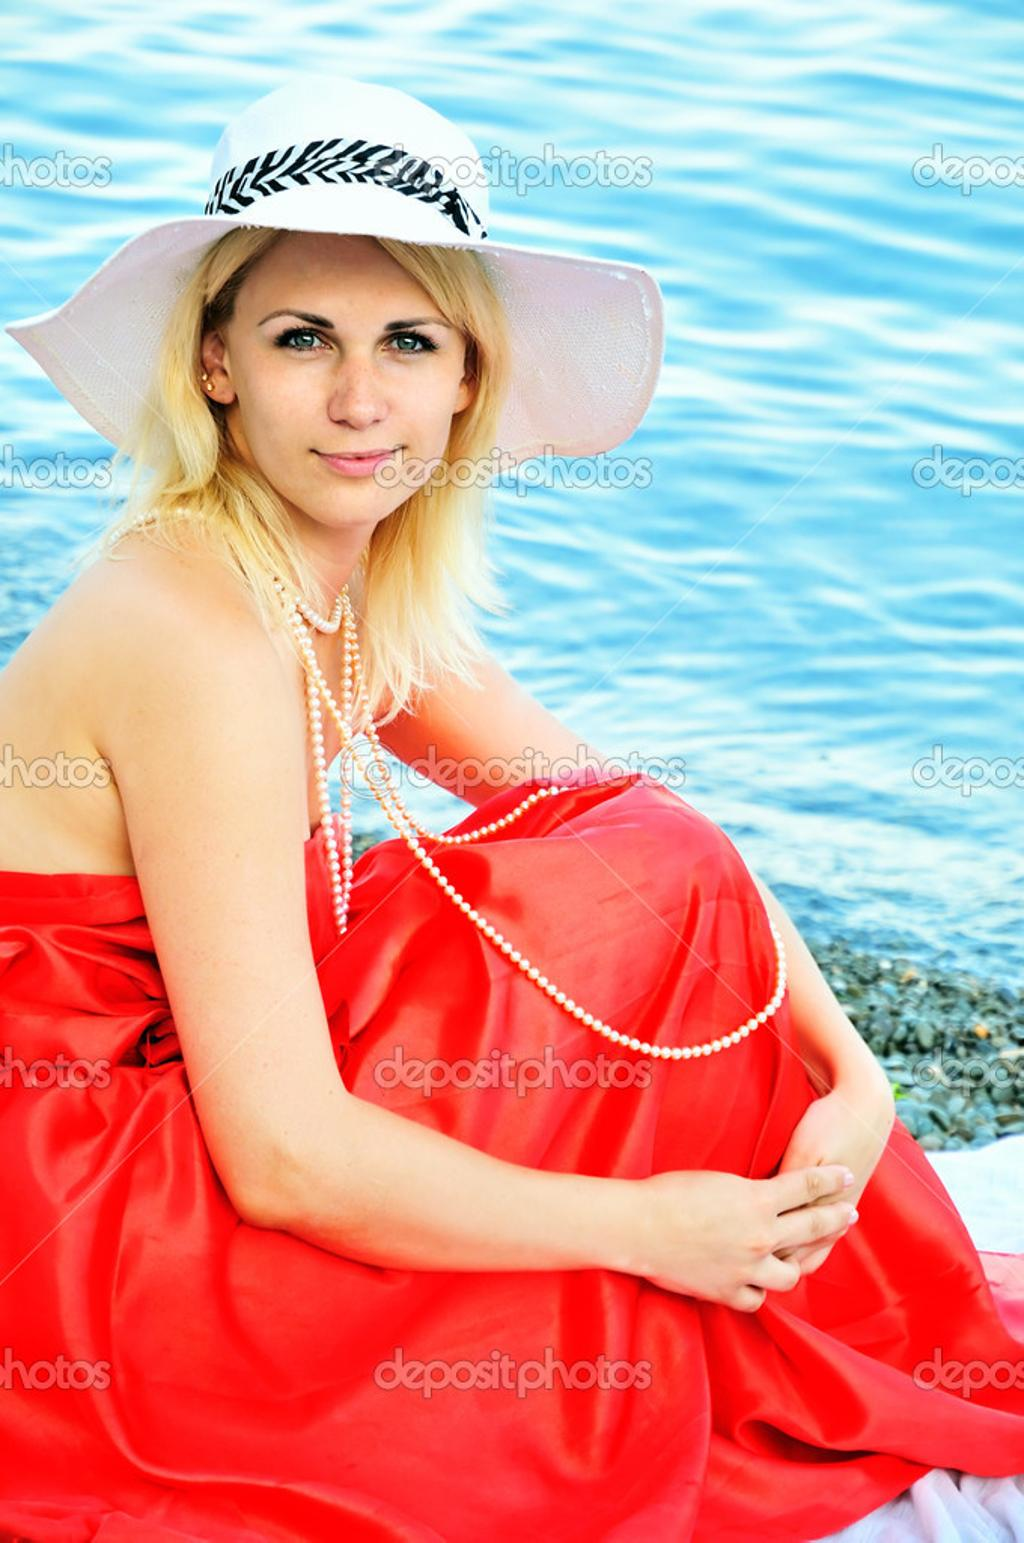face: (226, 211, 458, 515)
